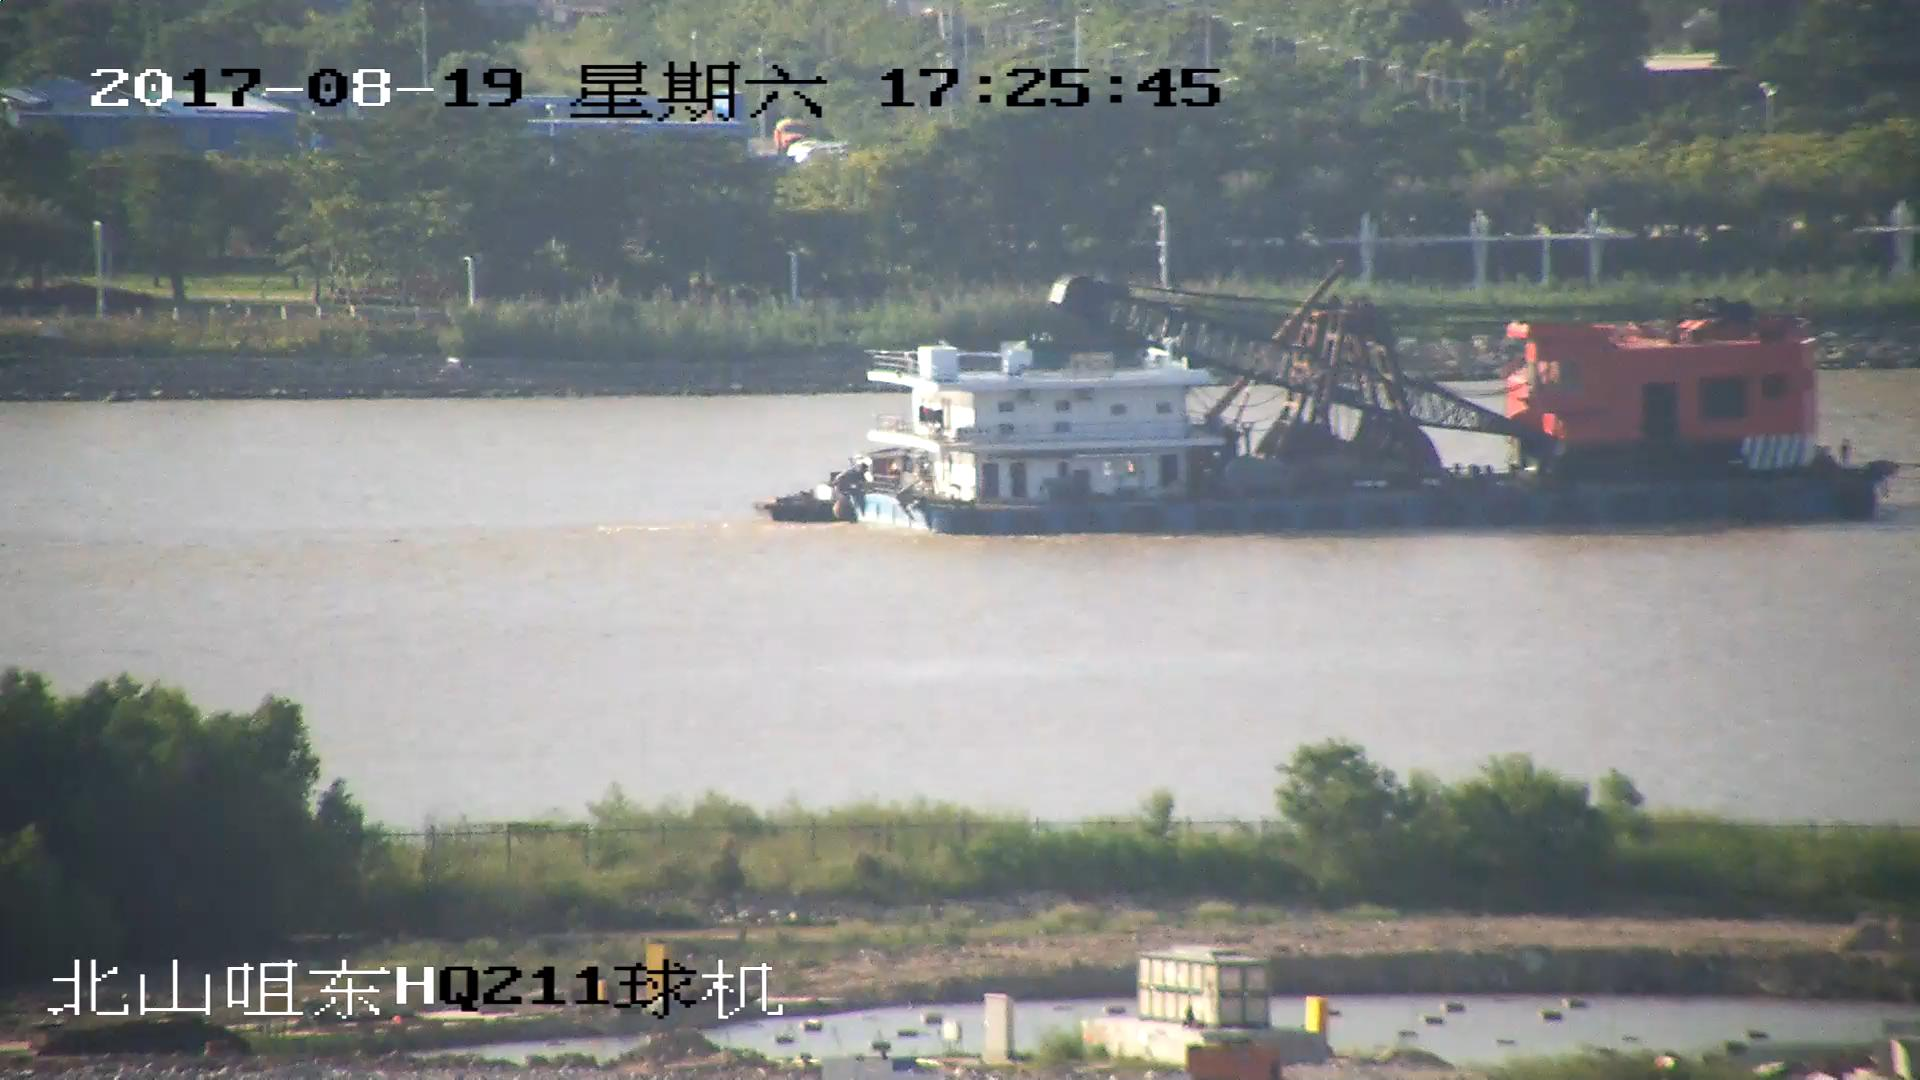fishing boat: (772, 264, 1898, 534)
